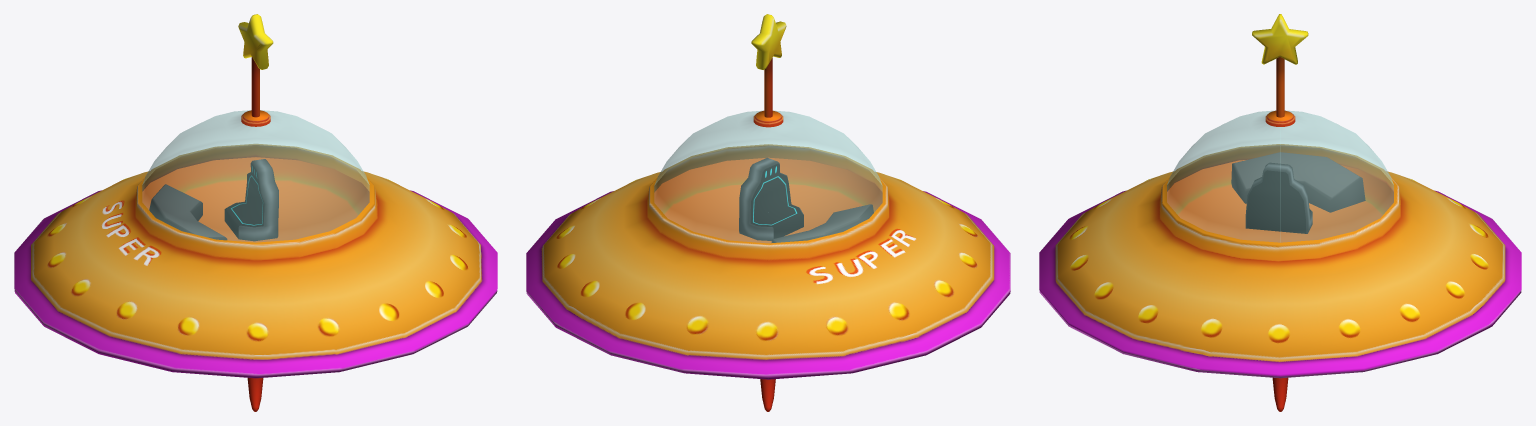
File: DW_spaceship.FBX
3 views of the same model, side by side, from view 1: azimuth 30°, elevation 25°; view 2: azimuth 150°, elevation 25°; view 3: azimuth 270°, elevation 25° (orthographic).
Parts seen in each view (by area): view 1: DW_Model_Spaceship; view 2: DW_Model_Spaceship; view 3: DW_Model_Spaceship.
Part boxes in pixels (<box>): DW_Model_Spaceship: <box>14,14,497,411</box>; DW_Model_Spaceship: <box>526,14,1010,411</box>; DW_Model_Spaceship: <box>1039,14,1521,411</box>.
Size of the model in its own units: 104 by 78.52 by 103.
Materials: 2 (1 with a texture image).
